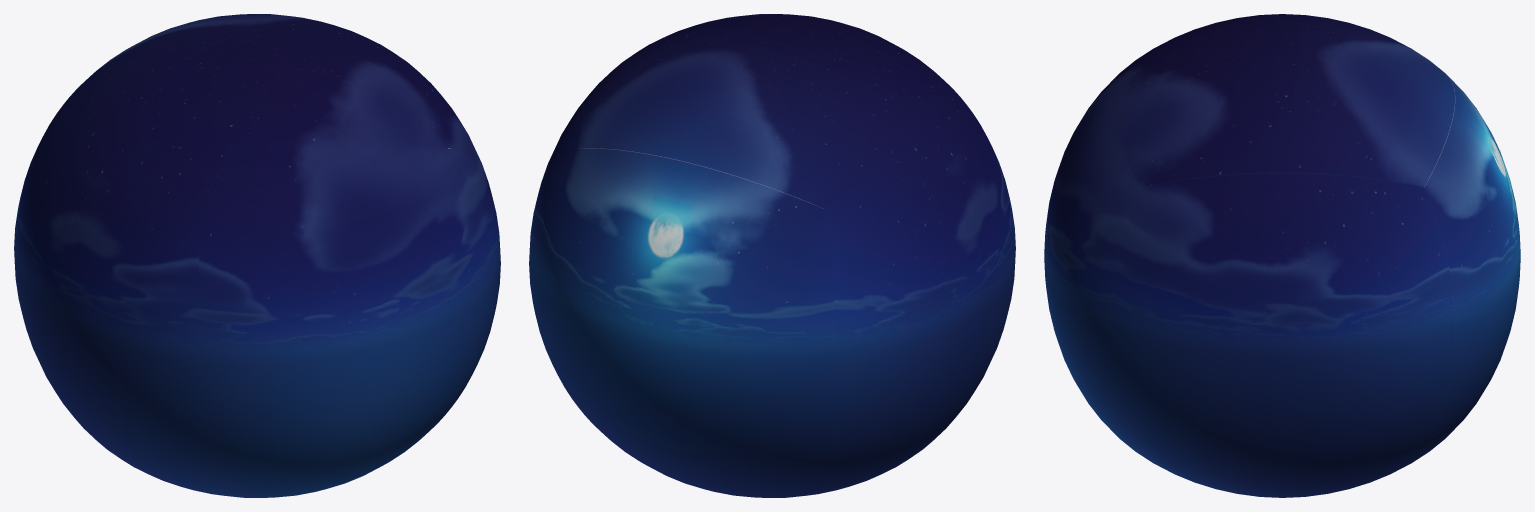
File: skybox-night.glb
The picture shows the model from 3 angles, left to right: view 1: azimuth 30°, elevation 25°; view 2: azimuth 150°, elevation 25°; view 3: azimuth 270°, elevation 25°; orthographic projection.
Parts seen in each view (by area): view 1: SkyBox; view 2: SkyBox; view 3: SkyBox.
Boxes of the visible parts, x1=… form: SkyBox: x1=14, y1=14, x2=500, y2=497; SkyBox: x1=529, y1=14, x2=1015, y2=497; SkyBox: x1=1044, y1=14, x2=1520, y2=497.
Size of the model in its own units: 192 by 192 by 192.
1 material, 1 textured.
